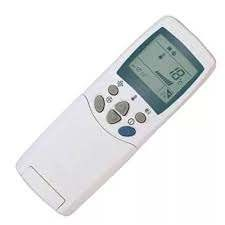remote control: (7, 9, 218, 225)
